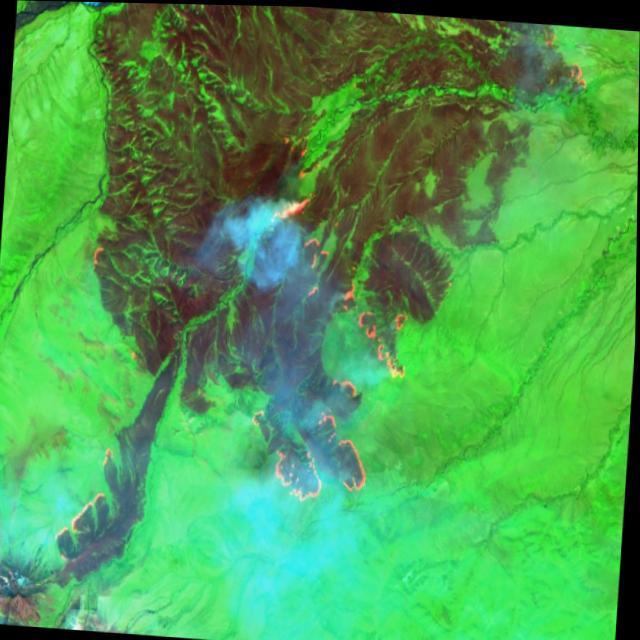fire: (243, 175, 422, 518), (51, 439, 127, 563), (525, 20, 598, 105)
